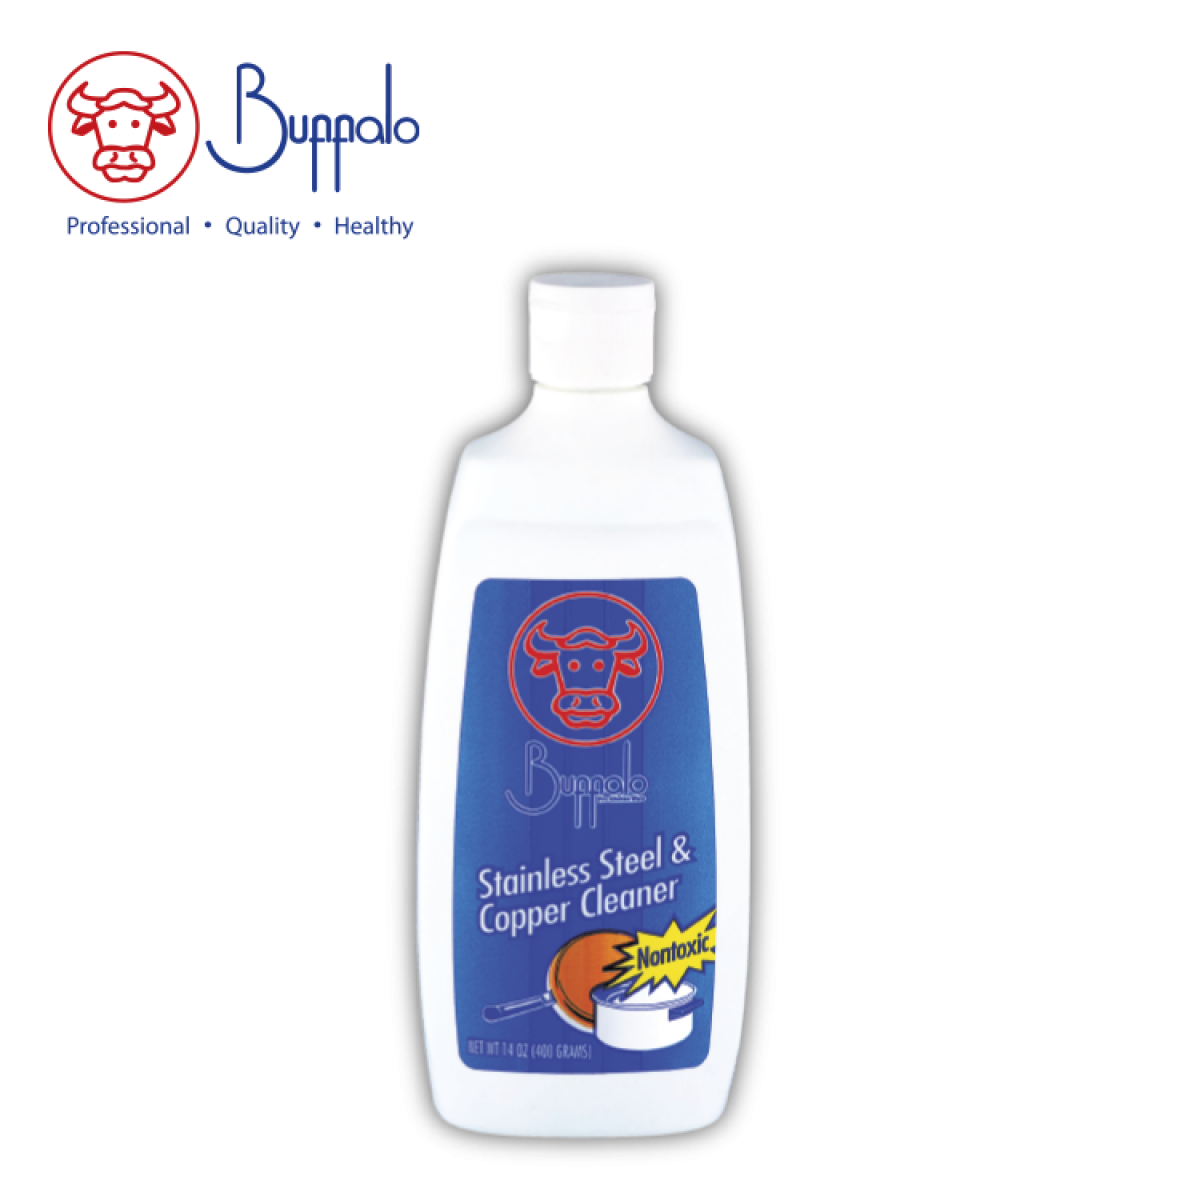cleaner: (397, 271, 753, 1145)
